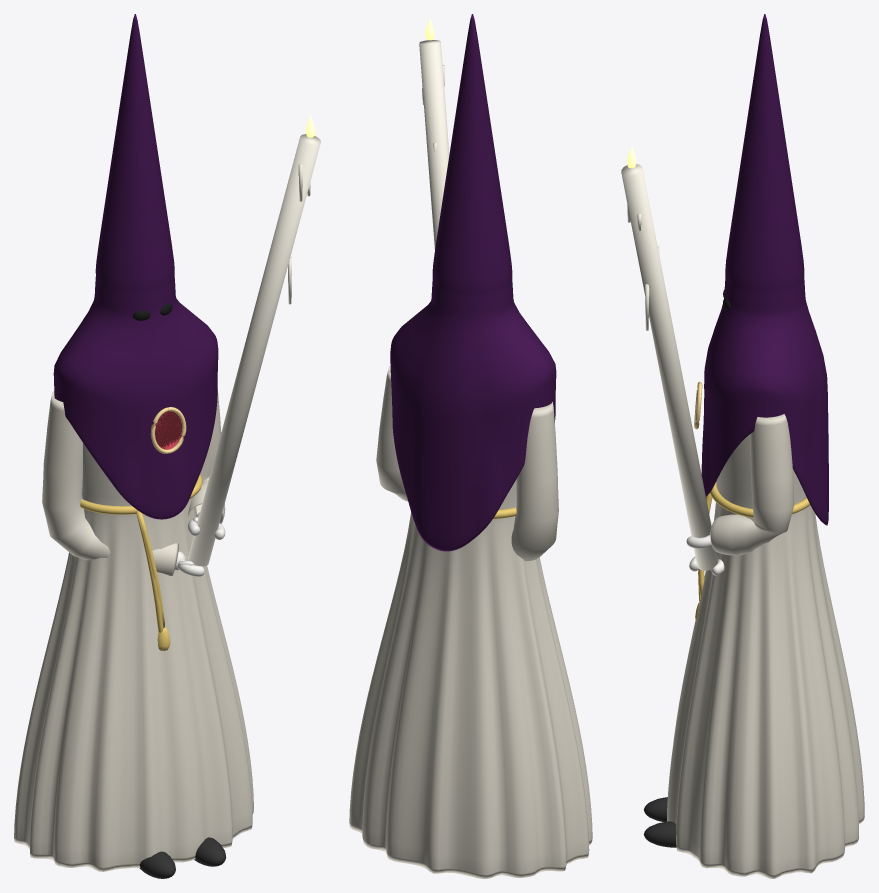
The model's file is nazareno_realista.glb.
3 renders of one model, left to right at view 1: azimuth 30°, elevation 25°; view 2: azimuth 150°, elevation 25°; view 3: azimuth 270°, elevation 25°, orthographic.
Visible parts, largest first — view 1: tunica, capirote, cirio, brazo_i, brazo_d, escudo, zapato, zapato.001, cingulo; view 2: tunica, capirote, brazo_i, cirio, brazo_d; view 3: tunica, capirote, cirio, brazo_d, zapato.001, cingulo.
Boxes of the visible parts, x1,y1,x2,y2 form: tunica: (14,443,253,871); capirote: (53,14,218,519); cirio: (188,134,320,566); brazo_i: (42,391,178,575); brazo_d: (188,389,225,523); escudo: (155,411,182,449); zapato: (139,851,175,878); zapato.001: (194,837,226,866); cingulo: (80,474,202,514); tunica: (349,480,592,878); capirote: (390,14,556,551); brazo_i: (511,402,558,561); cirio: (419,40,449,249); brazo_d: (376,365,408,501); tunica: (667,434,864,878); capirote: (701,14,828,525); cirio: (621,164,718,570); brazo_d: (710,414,794,555); zapato.001: (643,821,676,847); cingulo: (710,482,810,517).
Bounding box in the file's own units: 0.7271 × 2.5 × 0.6735.
